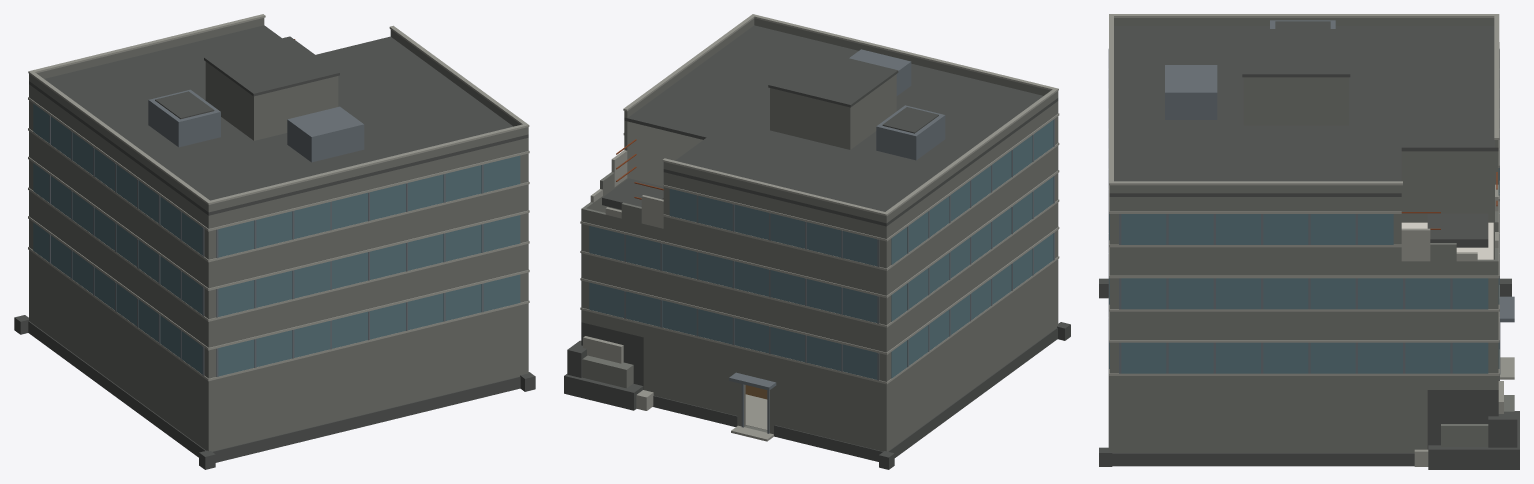
File: office.glb
3 renders of one model, left to right at view 1: azimuth 30°, elevation 25°; view 2: azimuth 150°, elevation 25°; view 3: azimuth 270°, elevation 25°, orthographic. The views are drawn at different scales.
Visible parts, largest first — view 1: office; view 2: office; view 3: office.
Boxes of the visible parts, x1,y1,x2,y2 form: office: [14, 14, 535, 469]; office: [564, 14, 1070, 469]; office: [1099, 14, 1519, 469].
Size of what is drawn, in the model's own units: 16 by 13.62 by 16.
2 materials, 2 textured.
